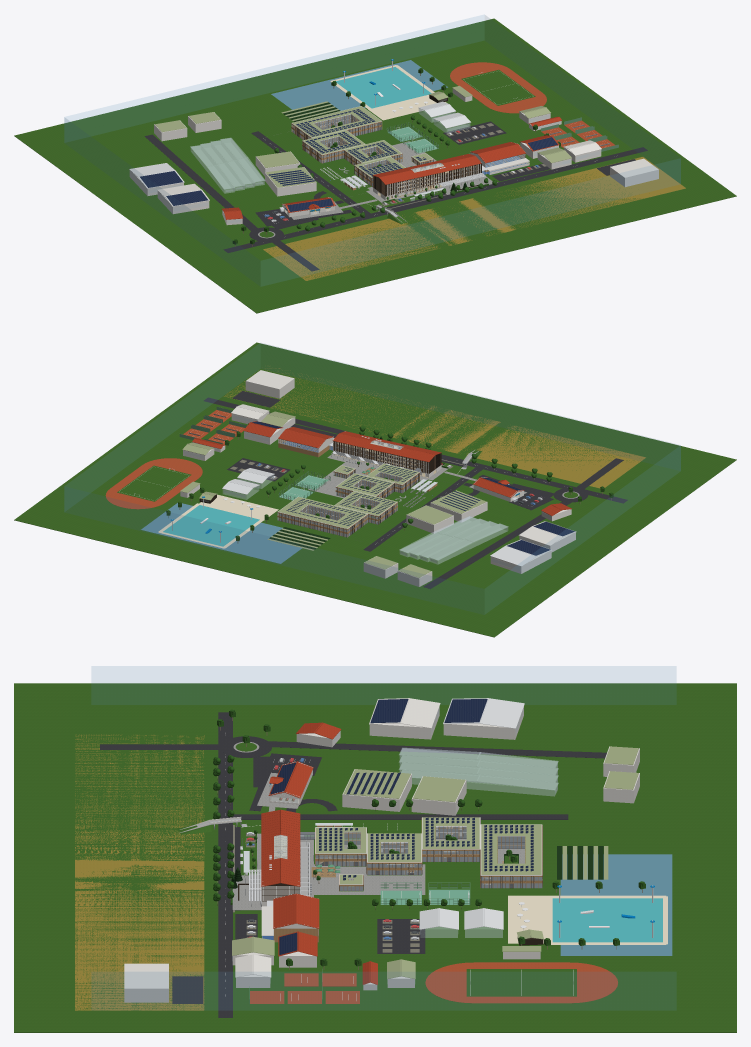
File: timber_campus_building.glb
3 views of the same model, one above another, from view 1: azimuth 30°, elevation 25°; view 2: azimuth 150°, elevation 25°; view 3: azimuth 270°, elevation 25° (orthographic). The views are drawn at different scales.
Visible parts, largest first — view 1: Environment_Ground_And_Roads, border, Extended_Map_Surroundings, Adjacent_Campus_Buildings, NewSchool_Structure_And_Facade, Building_Roof, SportsHall_Turnhalle, Building_Timber_Lamellas, Environment_Trees_And_Hedges, Building_Facade_And_Windows, Aldi_Supermarket, NewSchool_Courtyard_And_Shelters (+3 smaller); view 2: Environment_Ground_And_Roads, border, Extended_Map_Surroundings, Adjacent_Campus_Buildings, NewSchool_Structure_And_Facade, Building_Roof, SportsHall_Turnhalle, Building_Timber_Lamellas, NewSchool_Courtyard_And_Shelters, Environment_Trees_And_Hedges, Aldi_Supermarket, Building_Facade_And_Windows (+2 smaller); view 3: Environment_Ground_And_Roads, border, Extended_Map_Surroundings, Adjacent_Campus_Buildings, NewSchool_Structure_And_Facade, Building_Roof, NewSchool_Courtyard_And_Shelters, SportsHall_Turnhalle, Environment_Trees_And_Hedges, Exterior_Plaza_And_Seating, Aldi_Supermarket, SportsCourts_Fences_And_Courtyards (+2 smaller).
Boxes of the visible parts, left/top/right/bottom form: Environment_Ground_And_Roads: left=14, top=18, right=736, bottom=313; border: left=64, top=15, right=680, bottom=285; Extended_Map_Surroundings: left=129, top=59, right=658, bottom=271; Adjacent_Campus_Buildings: left=190, top=101, right=559, bottom=196; NewSchool_Structure_And_Facade: left=291, top=106, right=433, bottom=186; Building_Roof: left=372, top=154, right=481, bottom=184; SportsHall_Turnhalle: left=470, top=142, right=529, bottom=174; Building_Timber_Lamellas: left=372, top=163, right=481, bottom=196; Environment_Trees_And_Hedges: left=274, top=115, right=497, bottom=233; Building_Facade_And_Windows: left=377, top=164, right=480, bottom=199; Aldi_Supermarket: left=279, top=197, right=335, bottom=217; NewSchool_Courtyard_And_Shelters: left=320, top=141, right=436, bottom=190; Environment_Ground_And_Roads: left=14, top=342, right=736, bottom=637; border: left=64, top=343, right=680, bottom=614; Extended_Map_Surroundings: left=105, top=370, right=623, bottom=588; Adjacent_Campus_Buildings: left=222, top=421, right=508, bottom=564; NewSchool_Structure_And_Facade: left=277, top=463, right=419, bottom=537; Building_Roof: left=332, top=431, right=441, bottom=462; SportsHall_Turnhalle: left=278, top=427, right=334, bottom=457; Building_Timber_Lamellas: left=333, top=441, right=441, bottom=473; NewSchool_Courtyard_And_Shelters: left=308, top=459, right=437, bottom=507; Environment_Trees_And_Hedges: left=266, top=426, right=552, bottom=530; Aldi_Supermarket: left=473, top=477, right=524, bottom=502; Building_Facade_And_Windows: left=333, top=441, right=436, bottom=477; Environment_Ground_And_Roads: left=14, top=683, right=736, bottom=1032; border: left=92, top=666, right=675, bottom=1009; Extended_Map_Surroundings: left=100, top=698, right=667, bottom=1003; Adjacent_Campus_Buildings: left=278, top=747, right=558, bottom=967; NewSchool_Structure_And_Facade: left=315, top=817, right=542, bottom=890; Building_Roof: left=261, top=809, right=300, bottom=886; NewSchool_Courtyard_And_Shelters: left=301, top=823, right=425, bottom=894; SportsHall_Turnhalle: left=261, top=893, right=319, bottom=942; Environment_Trees_And_Hedges: left=213, top=755, right=482, bottom=909; Exterior_Plaza_And_Seating: left=232, top=833, right=313, bottom=910; Aldi_Supermarket: left=268, top=761, right=313, bottom=804; SportsCourts_Fences_And_Courtyards: left=344, top=834, right=524, bottom=904.
Bounding box in the file's own units: 480 × 25.71 × 420.
Materials: 55 (22 with a texture image).
